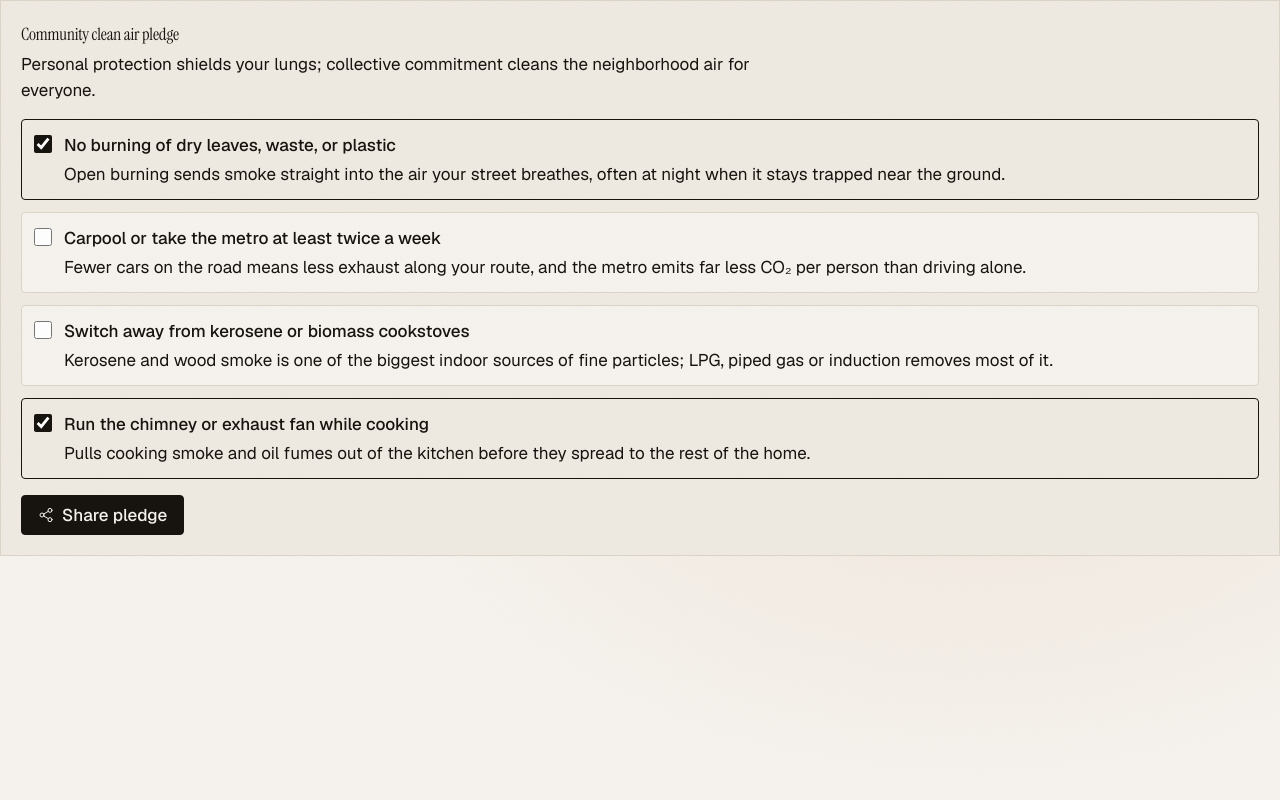
Test: CommunityPledge Component › toggles checkboxes and copies pledge text
Click the checkbox labelled "Carpool or take the metro at least twice a week" at (43, 237), box [34,228,52,246]
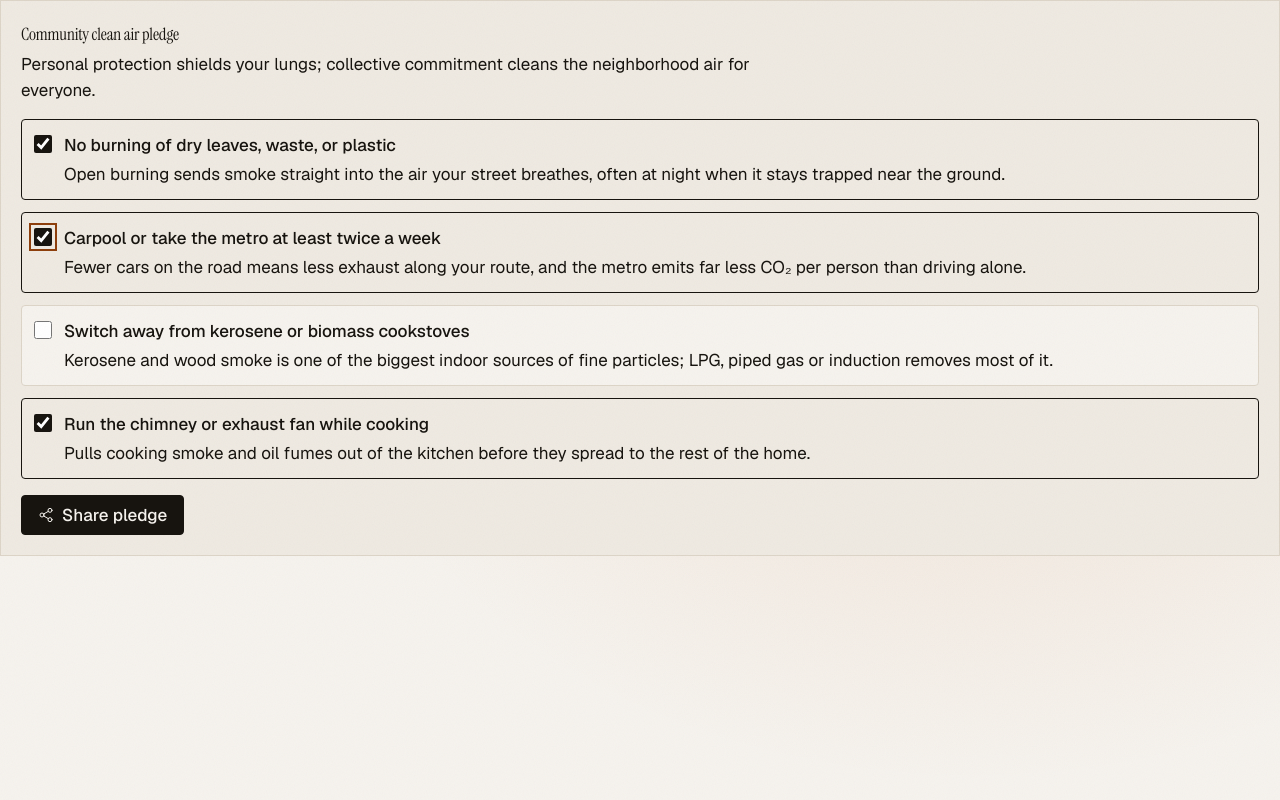
Click the button "Share pledge" at (103, 515), box [21,495,184,535]
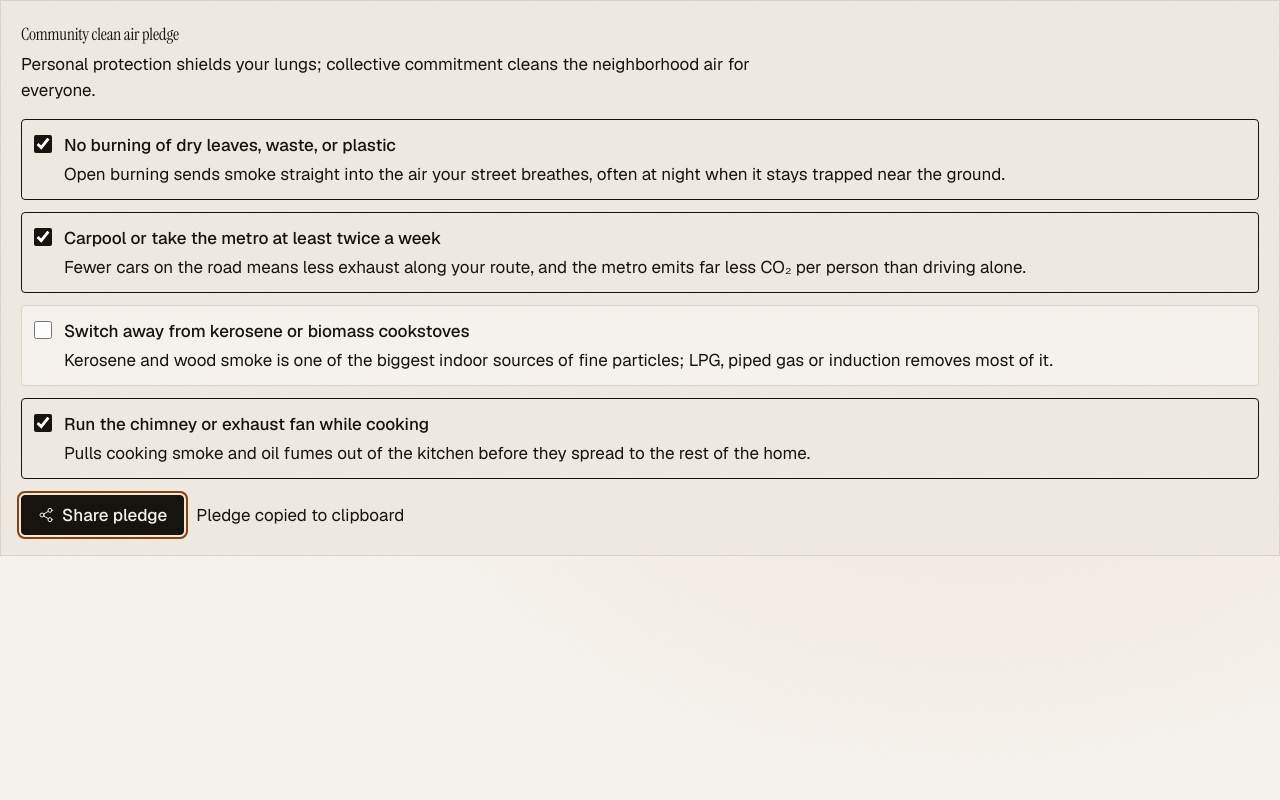
Expected: the text "Pledge copied to clipboard" is shown, [196,502,404,529]
